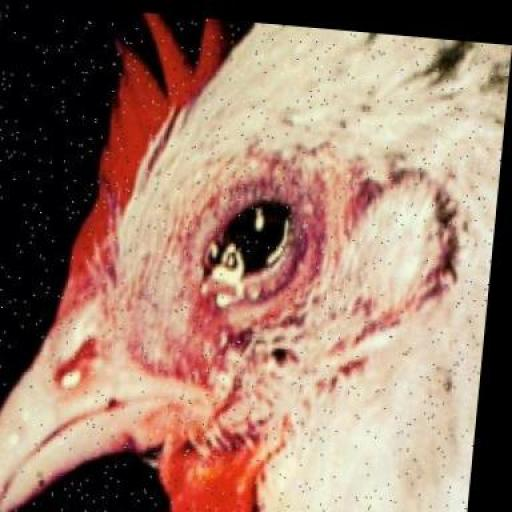disease: (161, 164, 331, 332)
